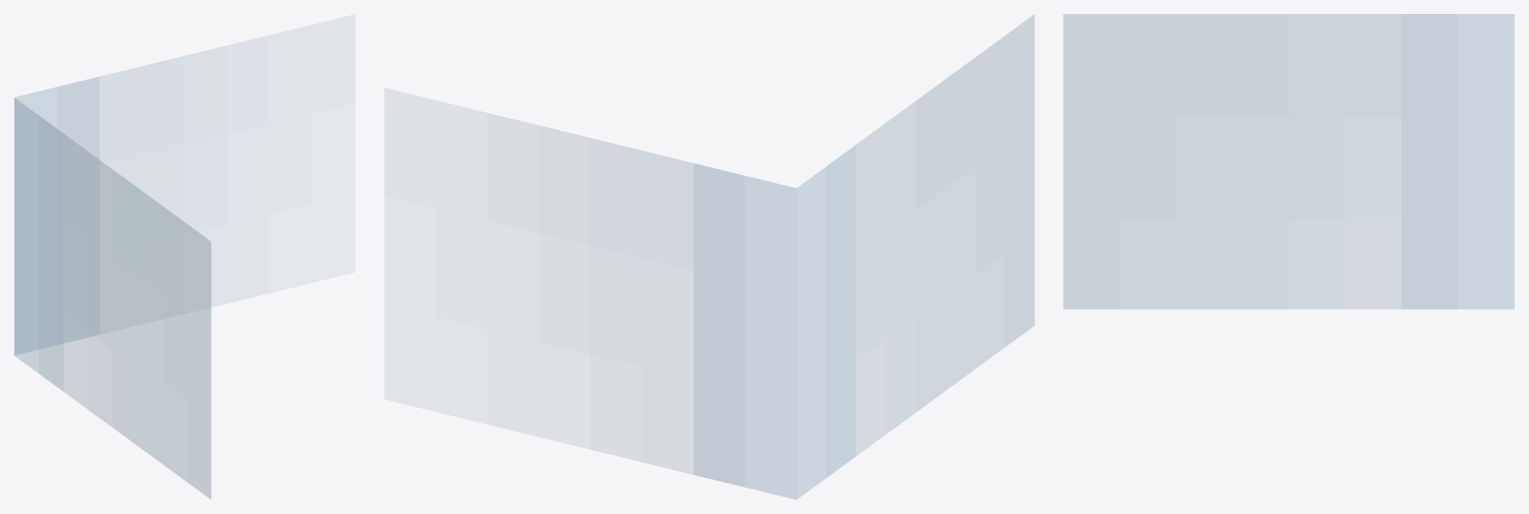
The picture shows the model from 3 angles, left to right: view 1: azimuth 30°, elevation 25°; view 2: azimuth 150°, elevation 25°; view 3: azimuth 270°, elevation 25°; orthographic projection. The views are drawn at different scales.
Bounding box in the file's own units: 0.5 × 0.3613 × 0.5.
Materials: 1 (1 with a texture image).
